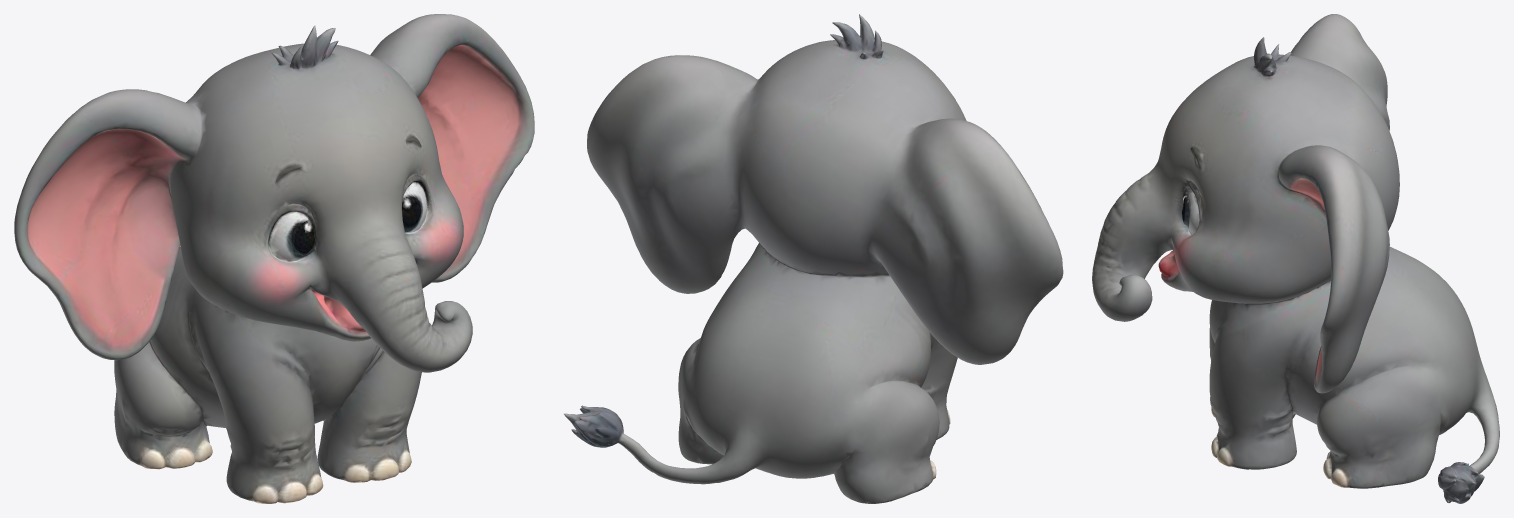
The picture shows the model from 3 angles, left to right: view 1: azimuth 30°, elevation 25°; view 2: azimuth 150°, elevation 25°; view 3: azimuth 270°, elevation 25°; orthographic projection. The views are drawn at different scales.
Size of the model in its own units: 1.9 by 1.56 by 1.45.
1 material, 1 textured.
